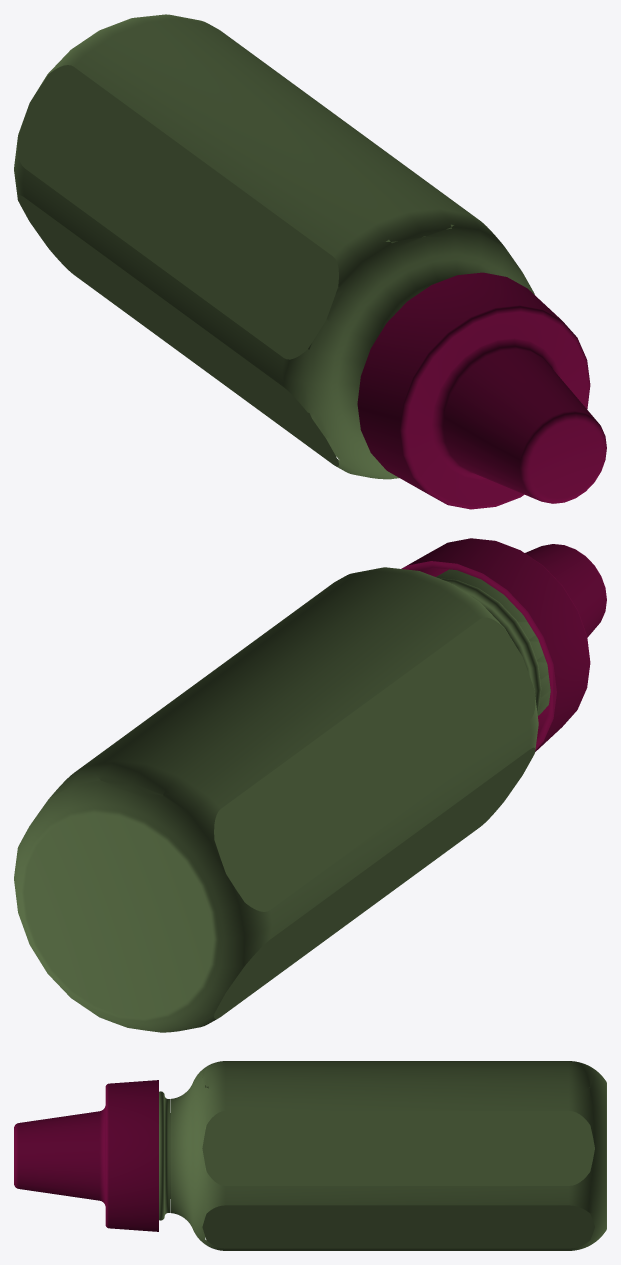
The model's file is model_align.obj.
3 views of the same model, one above another, from view 1: azimuth 30°, elevation 25°; view 2: azimuth 150°, elevation 25°; view 3: azimuth 270°, elevation 25° (orthographic). The views are drawn at different scales.
Parts seen in each view (by area): view 1: mesh2_mesh2-geometry, mesh37_mesh37-geometry; view 2: mesh2_mesh2-geometry, mesh37_mesh37-geometry, mesh1_mesh1-geometry; view 3: mesh2_mesh2-geometry, mesh37_mesh37-geometry, mesh1_mesh1-geometry.
Part boxes in pixels (box(x1,y1,x2,y2)): mesh2_mesh2-geometry: box(14, 14, 534, 479); mesh37_mesh37-geometry: box(357, 272, 606, 509); mesh2_mesh2-geometry: box(14, 567, 538, 1032); mesh37_mesh37-geometry: box(401, 538, 606, 751); mesh1_mesh1-geometry: box(436, 569, 550, 715); mesh2_mesh2-geometry: box(171, 1061, 606, 1250); mesh37_mesh37-geometry: box(14, 1080, 158, 1231); mesh1_mesh1-geometry: box(159, 1091, 206, 1220).
Bounding box in the file's own units: 0.05 × 0.0483 × 0.1554.
